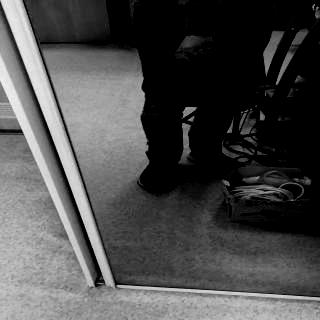kettlebell: (156, 50, 235, 108)
